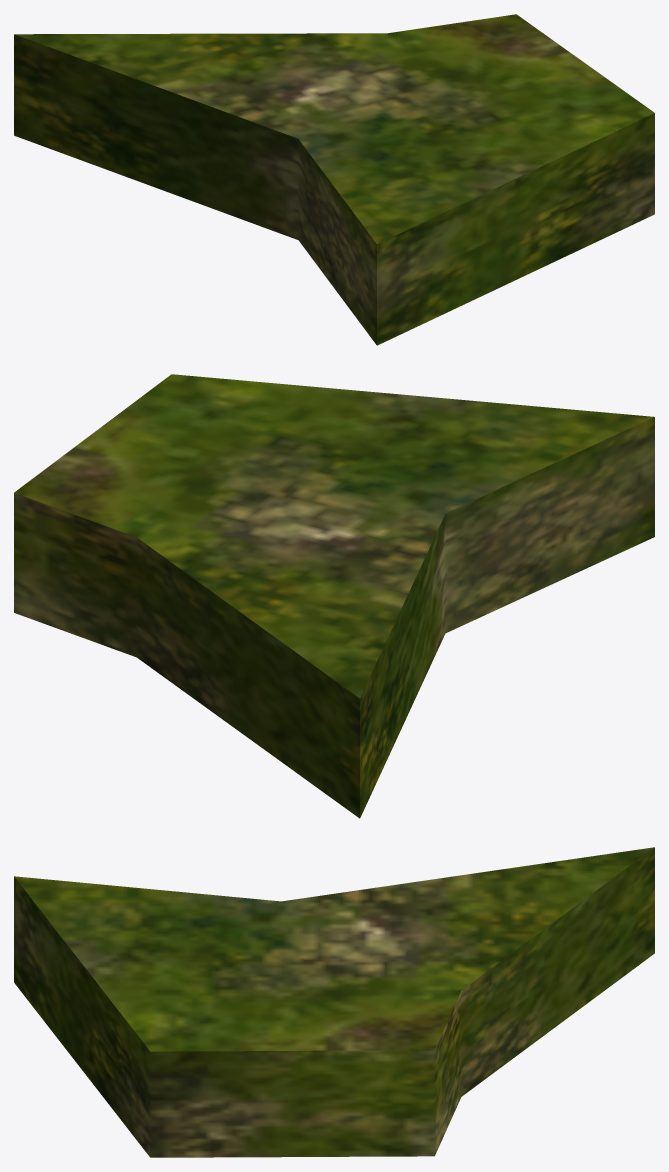
Rendered from ANIMATEDINSTANCES_ROOF_FALL_02__AI.fbx.
The picture shows the model from 3 angles, top to bottom: view 1: azimuth 30°, elevation 25°; view 2: azimuth 150°, elevation 25°; view 3: azimuth 270°, elevation 25°; orthographic projection. The views are drawn at different scales.
Parts seen in each view (by area): view 1: ANIMATEDINSTANCES_ROOF_FALL_02__AI; view 2: ANIMATEDINSTANCES_ROOF_FALL_02__AI; view 3: ANIMATEDINSTANCES_ROOF_FALL_02__AI.
Part boxes in pixels (x1,y1,x2,y2): ANIMATEDINSTANCES_ROOF_FALL_02__AI: (14,14,654,345); ANIMATEDINSTANCES_ROOF_FALL_02__AI: (14,374,654,818); ANIMATEDINSTANCES_ROOF_FALL_02__AI: (14,847,654,1157).
Size of the model in its own units: 10321 by 2500 by 13677.
1 material, 1 textured.
